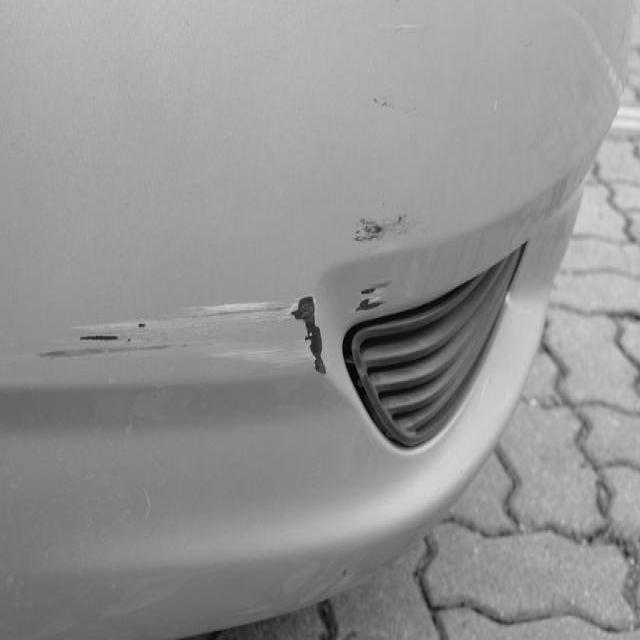Dent: (154, 550, 363, 628), (528, 119, 613, 223), (572, 12, 628, 130), (51, 443, 150, 494), (98, 571, 190, 617), (38, 338, 170, 358), (180, 297, 293, 319), (370, 92, 414, 114), (355, 217, 387, 238), (603, 59, 620, 95), (378, 21, 422, 32), (354, 292, 382, 309), (76, 331, 123, 339), (140, 483, 150, 515), (359, 282, 386, 292), (492, 96, 498, 112), (136, 320, 144, 326), (126, 334, 130, 340)
